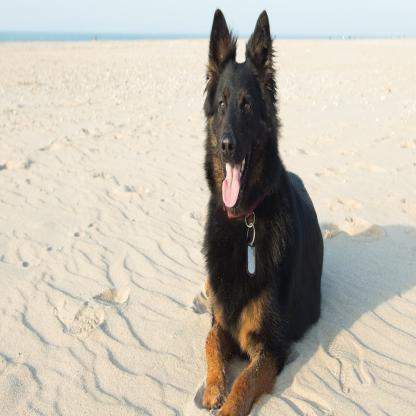dog: (200, 15, 325, 416)
